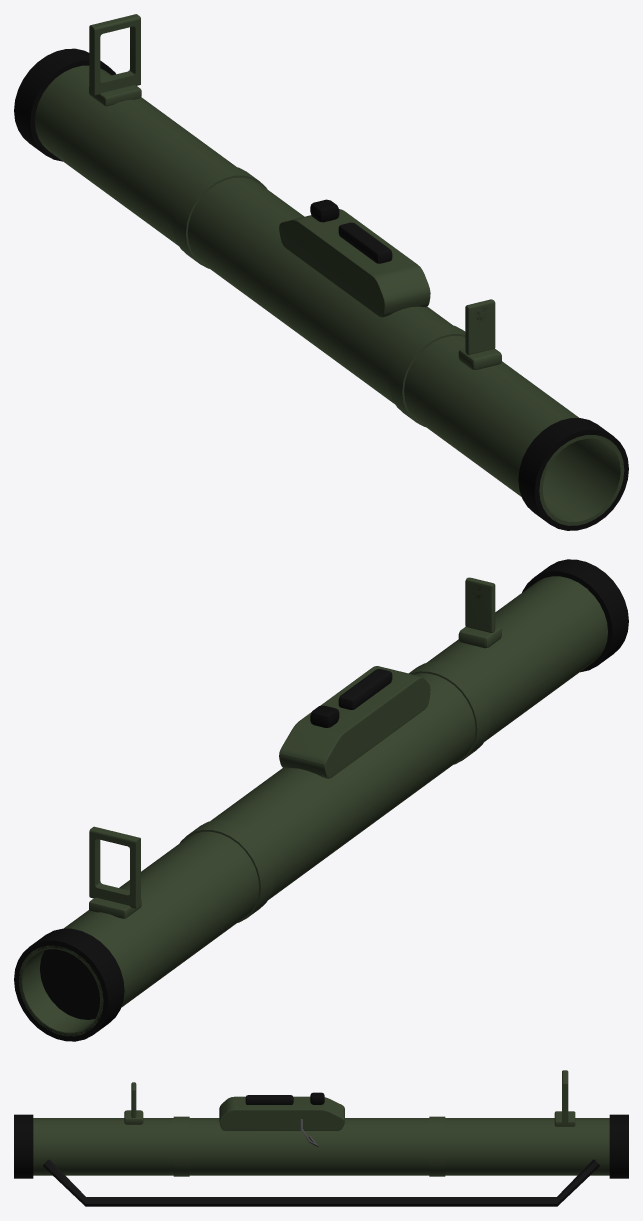
File: weapon_rpg26.glb
The picture shows the model from 3 angles, top to bottom: view 1: azimuth 30°, elevation 25°; view 2: azimuth 150°, elevation 25°; view 3: azimuth 270°, elevation 25°; orthographic projection. The views are drawn at different scales.
Visible parts, largest first — view 1: weapon_rpg26_LOD0, weapon_rpg26_FrontSight_LOD0, weapon_rpg26_RearSight_LOD0; view 2: weapon_rpg26_LOD0, weapon_rpg26_FrontSight_LOD0, weapon_rpg26_RearSight_LOD0; view 3: weapon_rpg26_LOD0, weapon_rpg26_FrontSight_LOD0, weapon_rpg26_RearSight_LOD0.
Part boxes in pixels (bbox=[...]): weapon_rpg26_LOD0: bbox=[14, 48, 628, 530]; weapon_rpg26_FrontSight_LOD0: bbox=[89, 14, 141, 106]; weapon_rpg26_RearSight_LOD0: bbox=[458, 299, 501, 369]; weapon_rpg26_LOD0: bbox=[14, 559, 628, 1041]; weapon_rpg26_FrontSight_LOD0: bbox=[89, 826, 141, 918]; weapon_rpg26_RearSight_LOD0: bbox=[458, 577, 501, 648]; weapon_rpg26_LOD0: bbox=[14, 1092, 628, 1206]; weapon_rpg26_FrontSight_LOD0: bbox=[554, 1070, 575, 1126]; weapon_rpg26_RearSight_LOD0: bbox=[124, 1082, 143, 1124].
Size of what is drawn, in the model's own units: 0.1023 by 0.1515 by 0.77.
